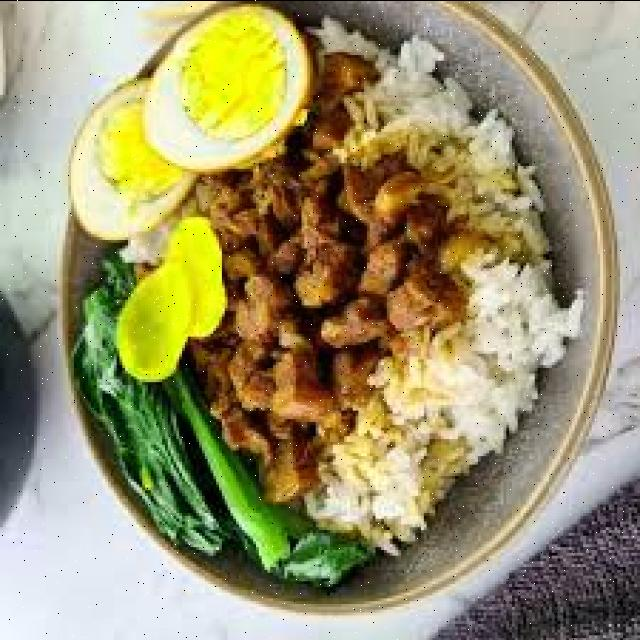Egg: (71, 6, 310, 239)
Green veg: (71, 256, 373, 589)
Non green veg: (117, 219, 225, 381)
Pork: (188, 54, 464, 501)
Rice: (304, 20, 580, 555)
